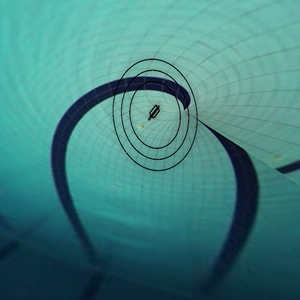circle: (100, 46, 217, 182)
submarine: (141, 101, 167, 128)
